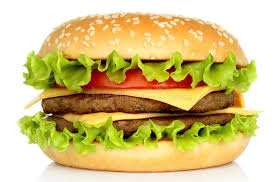hamburger: (20, 11, 265, 172)
